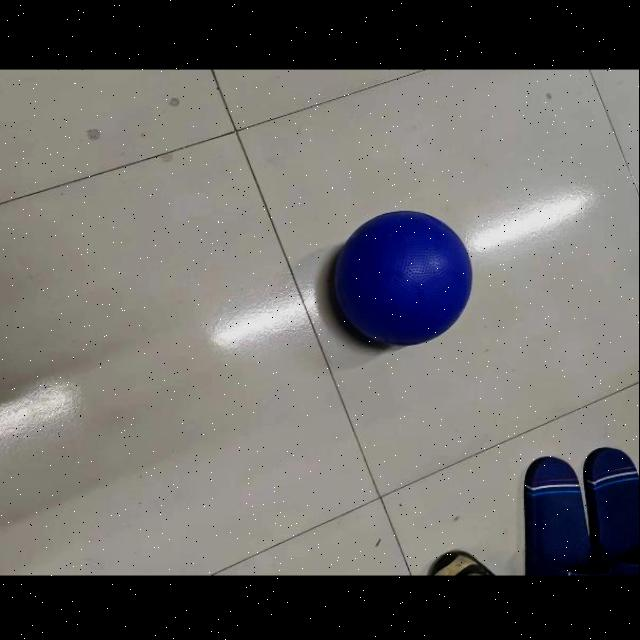B: (320, 206, 478, 352)
